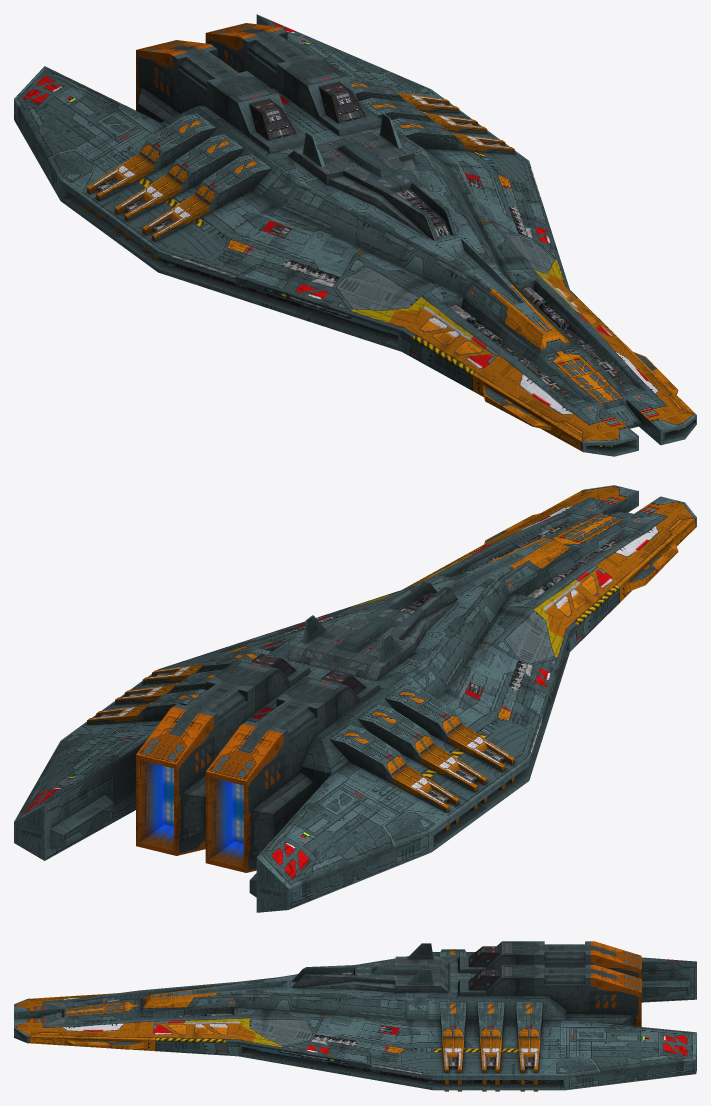
The model's file is SciFi_Ship_Escort-FBX.FBX.
3 views of the same model, one above another, from view 1: azimuth 30°, elevation 25°; view 2: azimuth 150°, elevation 25°; view 3: azimuth 270°, elevation 25° (orthographic). The views are drawn at different scales.
Parts seen in each view (by area): view 1: SciFi_Ship_Escort; view 2: SciFi_Ship_Escort; view 3: SciFi_Ship_Escort.
Boxes of the visible parts, x1,y1,x2,y2 form: SciFi_Ship_Escort: [14, 14, 696, 456]; SciFi_Ship_Escort: [14, 485, 696, 912]; SciFi_Ship_Escort: [14, 941, 696, 1091].
Bounding box in the file's own units: 3051 × 1057 × 7106.
